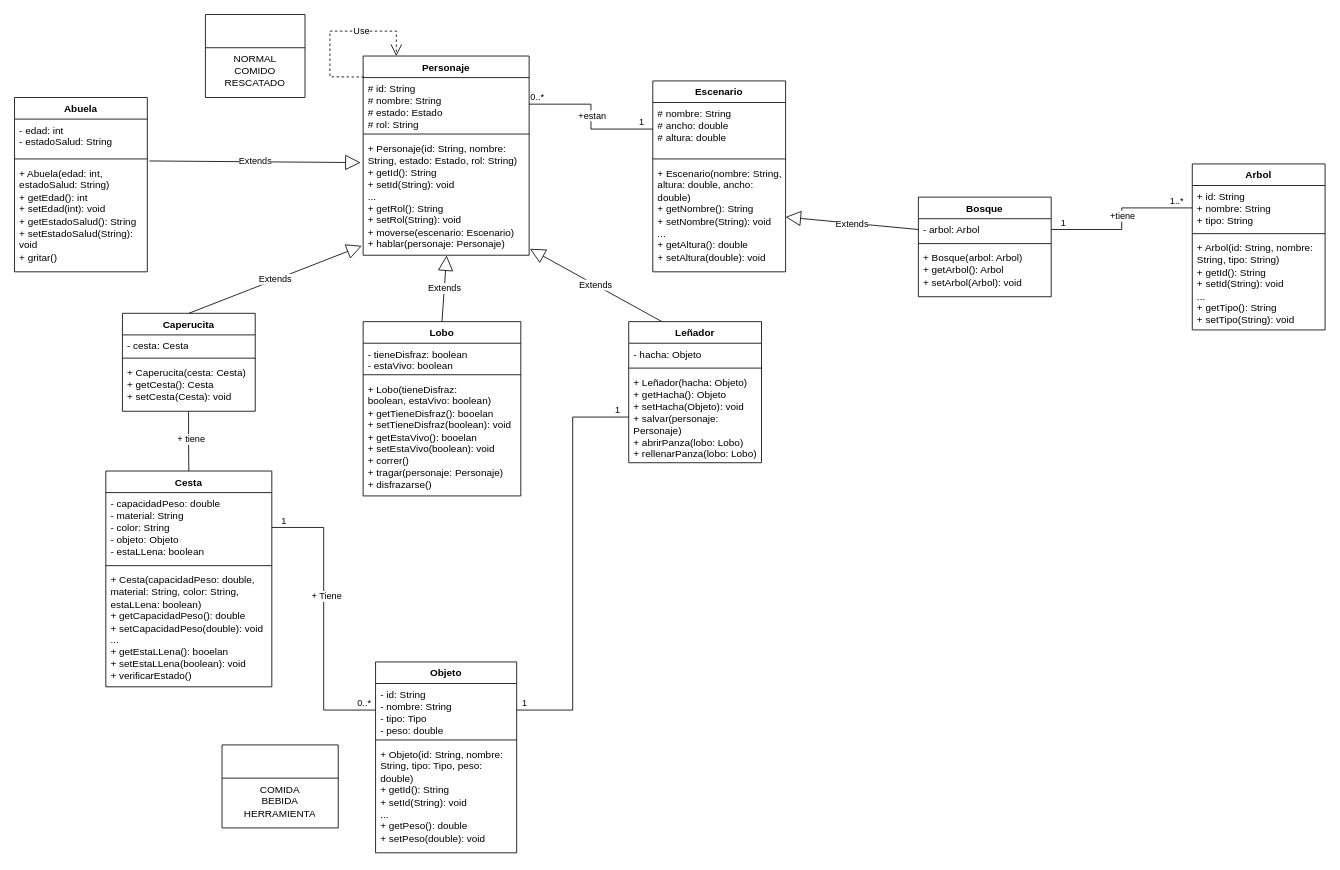
Image size: 1340x870. Some labels were removed from this diagram. Each missing label, with the box of its shape:
<<enumeration>> Estado: (205, 14, 305, 98)
<<enumeration>> Tipo: (221, 744, 338, 828)
